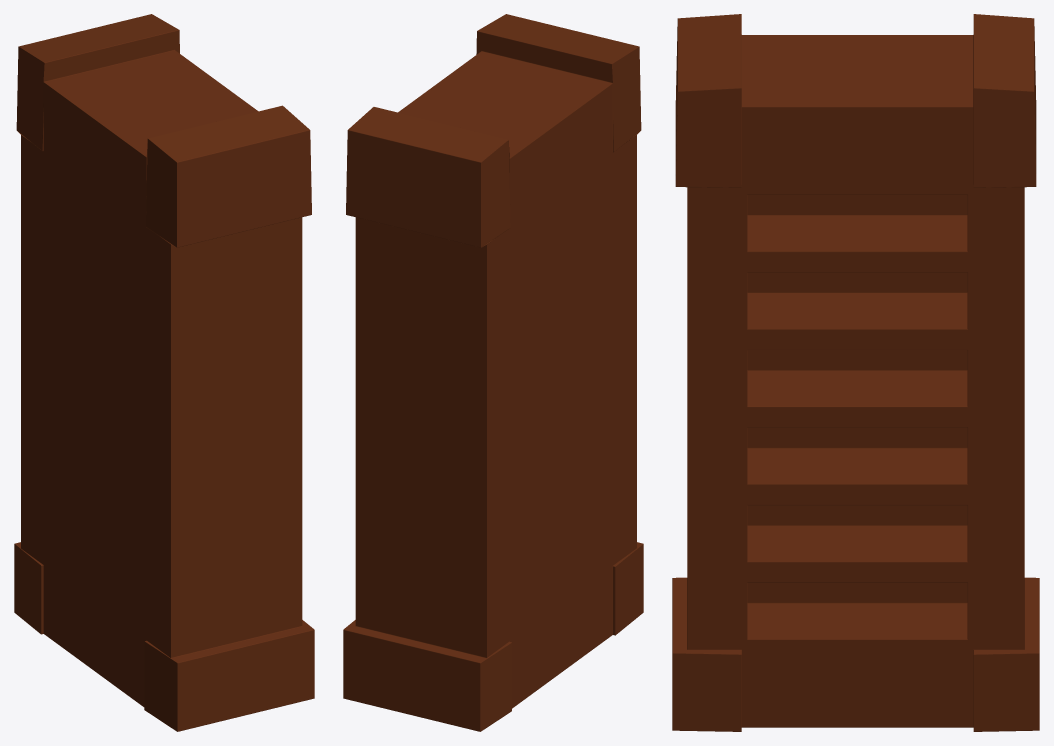
File: BookcaseSmall.fbx
3 renders of one model, left to right at view 1: azimuth 30°, elevation 25°; view 2: azimuth 150°, elevation 25°; view 3: azimuth 270°, elevation 25°, orthographic. The views are drawn at different scales.
Parts seen in each view (by area): view 1: Cube.045; view 2: Cube.045; view 3: Cube.045.
Part boxes in pixels (box(x1,y1,x2,y2)): Cube.045: box(14, 14, 314, 731); Cube.045: box(343, 14, 643, 731); Cube.045: box(672, 14, 1039, 731).
Size of the model in its own units: 156 by 598 by 310.
